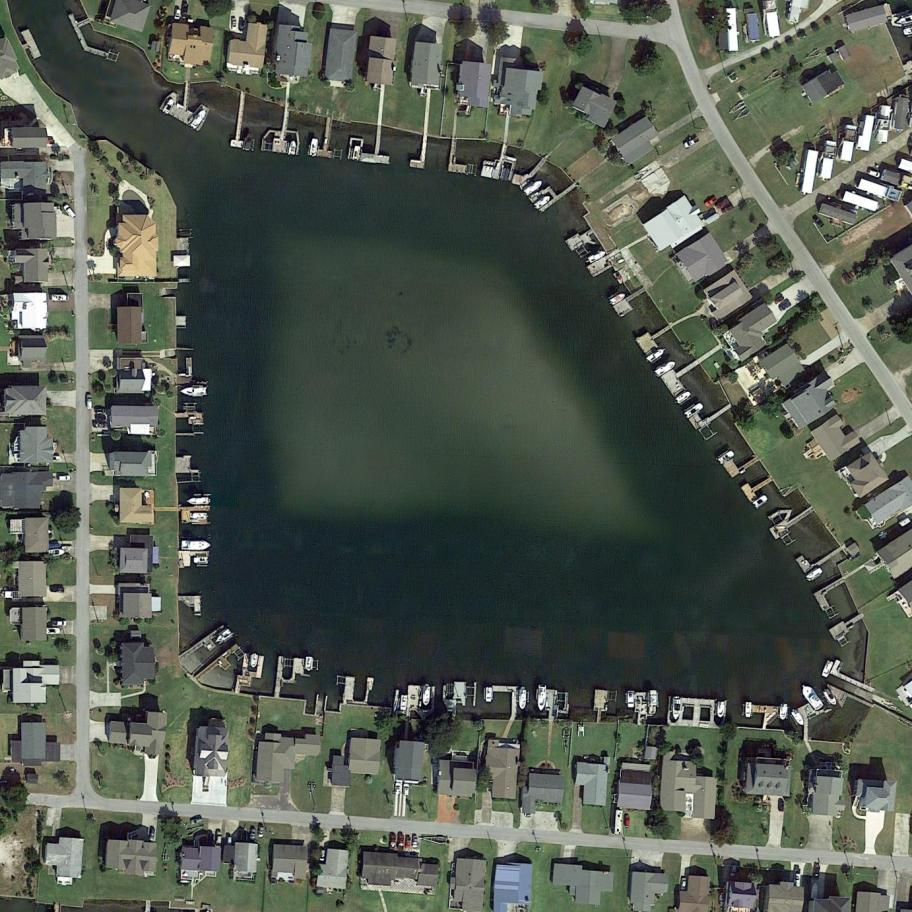ship: (798, 682, 825, 712), (654, 359, 678, 379), (682, 400, 705, 420), (189, 108, 208, 132), (584, 247, 608, 266), (522, 178, 544, 198), (181, 539, 212, 552), (822, 687, 840, 708), (789, 708, 807, 729), (804, 565, 825, 583), (714, 449, 736, 466), (646, 346, 667, 363), (212, 628, 233, 645), (533, 194, 553, 211), (608, 290, 627, 307), (161, 97, 177, 117), (537, 684, 548, 713), (820, 659, 835, 680), (180, 385, 208, 396), (751, 493, 769, 510), (676, 389, 694, 405), (671, 698, 682, 722), (308, 137, 320, 158), (649, 690, 659, 714), (422, 685, 431, 707), (626, 691, 637, 709), (810, 881, 820, 900), (47, 548, 66, 558), (351, 145, 362, 162), (187, 497, 210, 505), (519, 688, 527, 710), (779, 704, 788, 722), (189, 513, 209, 521), (400, 695, 408, 714), (249, 654, 259, 669), (46, 626, 61, 636), (485, 687, 494, 703), (191, 556, 208, 564), (305, 657, 314, 672), (717, 702, 725, 718), (744, 702, 752, 718), (577, 724, 586, 738), (287, 141, 296, 155)
small-vehicle: (62, 202, 77, 219), (714, 196, 730, 211), (703, 195, 719, 209), (683, 136, 700, 149), (721, 201, 735, 215), (779, 299, 793, 312), (813, 215, 826, 229), (772, 294, 786, 306), (867, 168, 882, 179), (190, 816, 204, 827), (794, 868, 802, 886), (51, 294, 69, 302), (181, 3, 189, 20), (813, 864, 822, 879), (214, 832, 223, 847), (49, 585, 65, 593), (86, 394, 94, 410), (173, 8, 182, 22), (680, 876, 688, 891), (397, 834, 405, 849), (57, 475, 72, 483), (729, 865, 738, 878), (389, 834, 396, 850), (148, 827, 156, 841), (624, 814, 631, 829), (92, 421, 107, 428), (412, 836, 420, 849), (257, 826, 265, 839), (249, 828, 257, 841), (94, 408, 107, 416), (230, 17, 238, 30), (238, 19, 245, 32), (395, 783, 402, 795), (403, 783, 409, 797), (318, 850, 325, 862), (405, 837, 411, 850), (95, 414, 106, 421), (778, 799, 784, 811)
